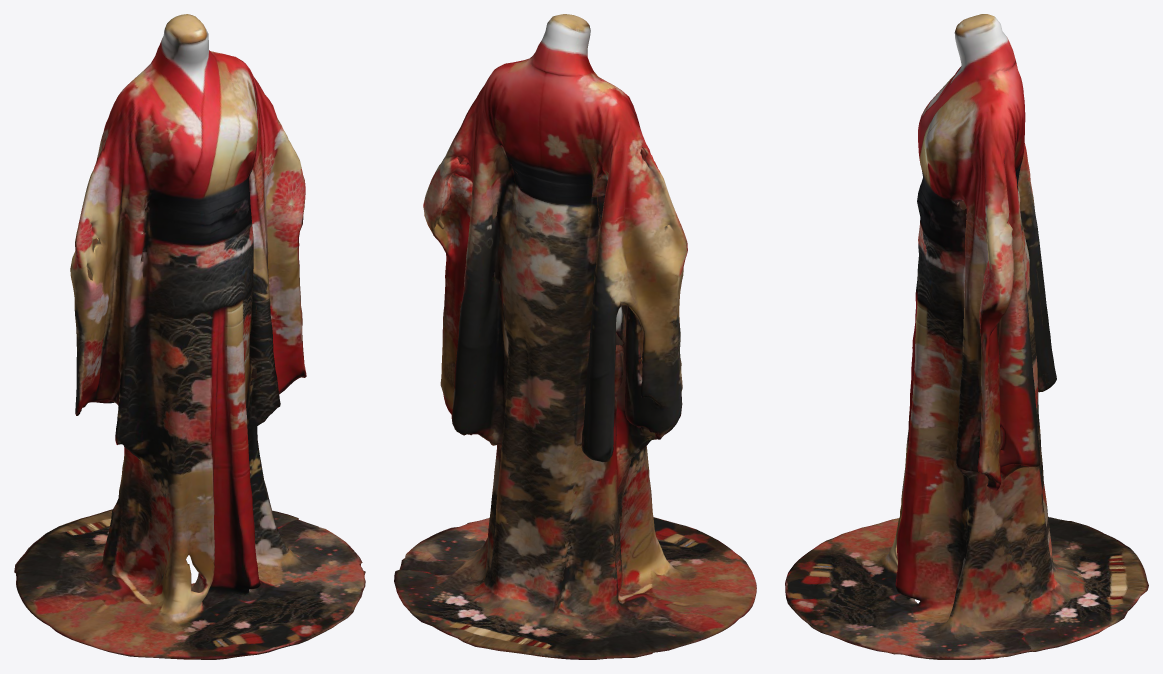
Rendered from KimonoAero.glb.
3 views of the same model, side by side, from view 1: azimuth 30°, elevation 25°; view 2: azimuth 150°, elevation 25°; view 3: azimuth 270°, elevation 25° (orthographic). The views are drawn at different scales.
Parts seen in each view (by area): view 1: unnamed_n3d; view 2: unnamed_n3d; view 3: unnamed_n3d.
Boxes of the visible parts, x1=… form: unnamed_n3d: x1=14, y1=14, x2=365, y2=659; unnamed_n3d: x1=394, y1=14, x2=756, y2=659; unnamed_n3d: x1=785, y1=14, x2=1148, y2=659.
Size of the model in its own units: 1.13 by 2 by 1.14.
Materials: 1 (1 with a texture image).
